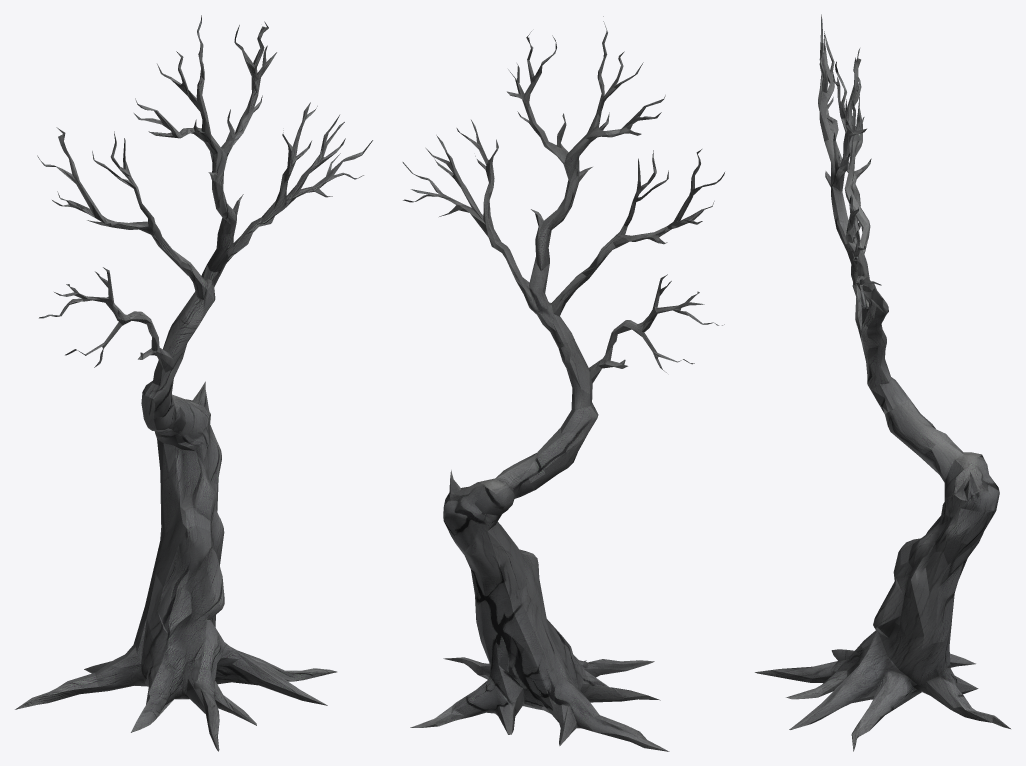
The picture shows the model from 3 angles, left to right: view 1: azimuth 30°, elevation 25°; view 2: azimuth 150°, elevation 25°; view 3: azimuth 270°, elevation 25°; orthographic projection. The views are drawn at different scales.
Size of the model in its own units: 0.9522 by 1.9 by 0.6631.
1 material, 1 textured.
